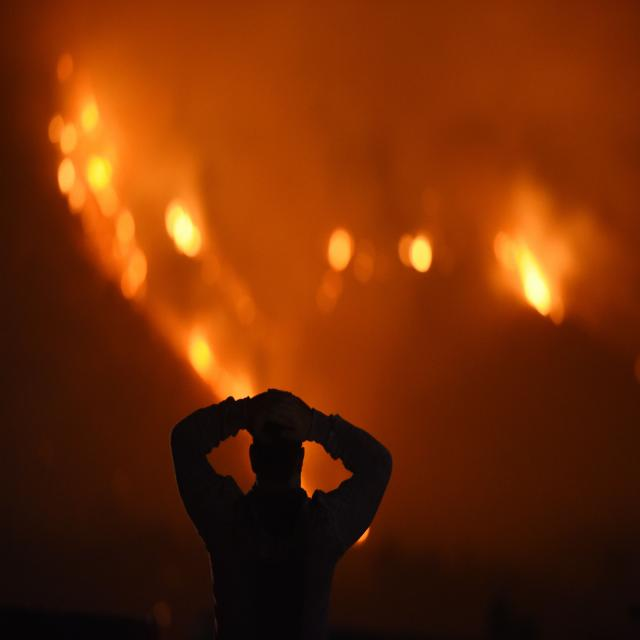fire: (52, 93, 239, 395), (310, 187, 446, 306), (482, 172, 580, 337)
